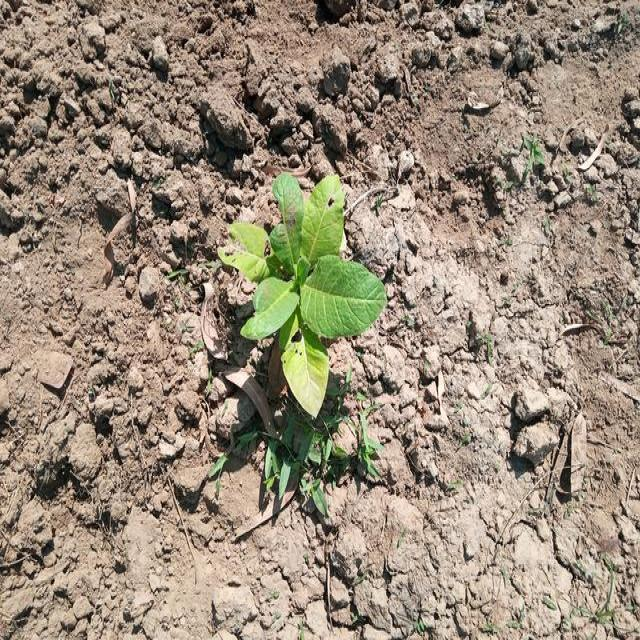crop: (225, 163, 391, 411)
